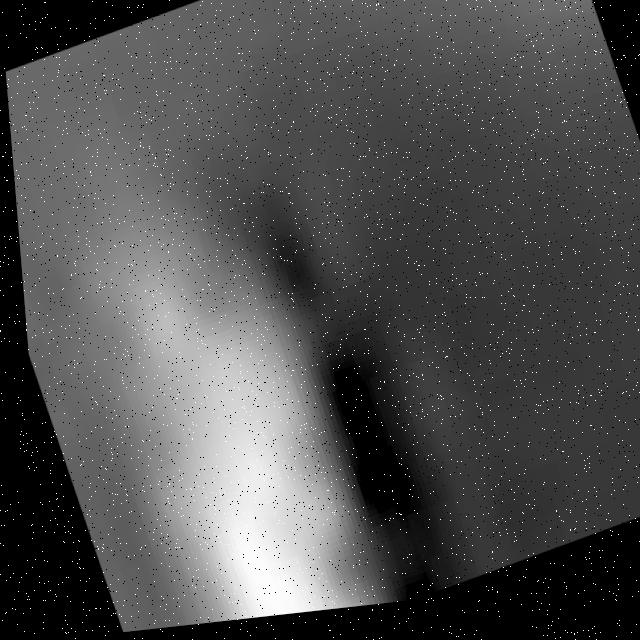person: (29, 135, 409, 640)
